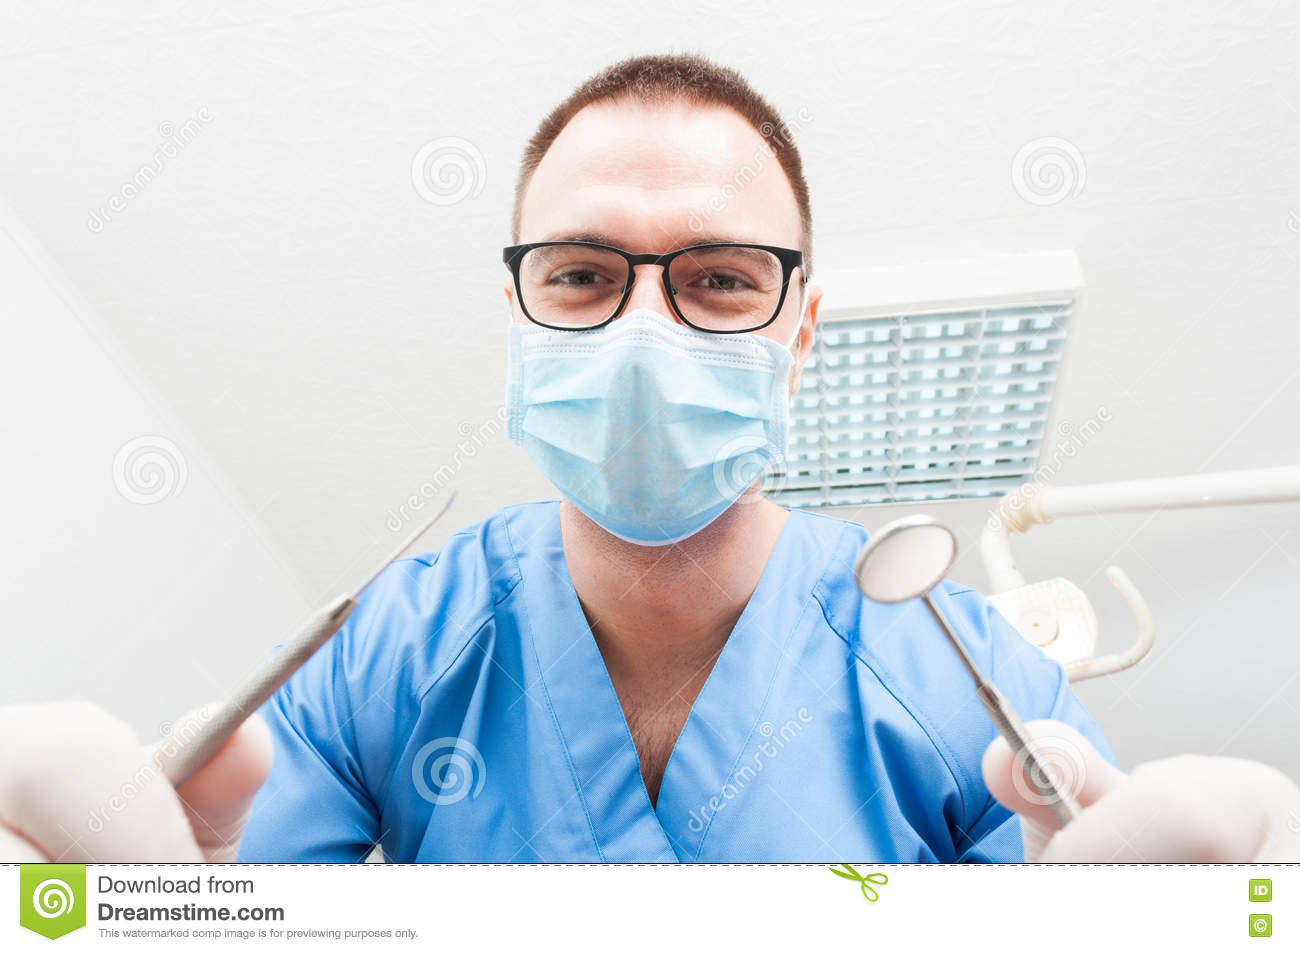mask: (504, 314, 797, 546)
